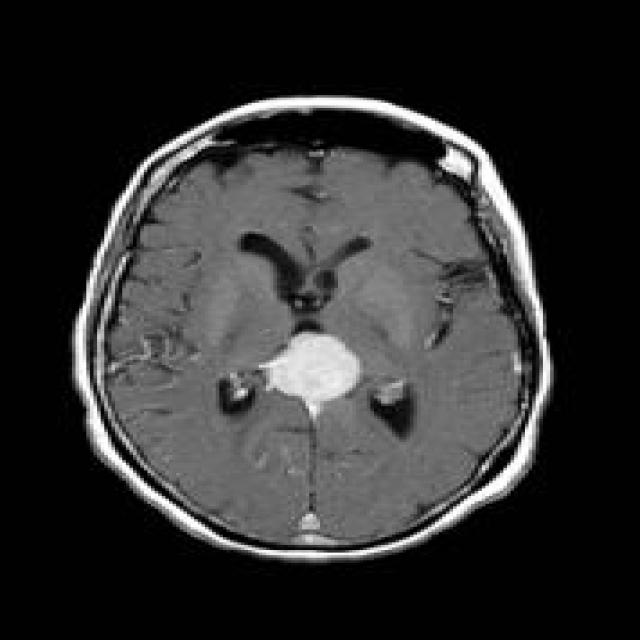Tumor-Cell: (242, 321, 374, 422)
